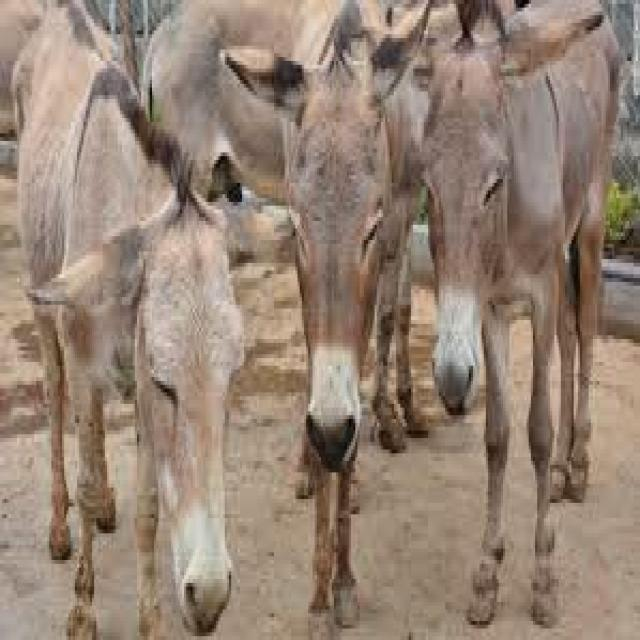donkey: (11, 0, 283, 636), (225, 0, 428, 621), (420, 0, 619, 621)
